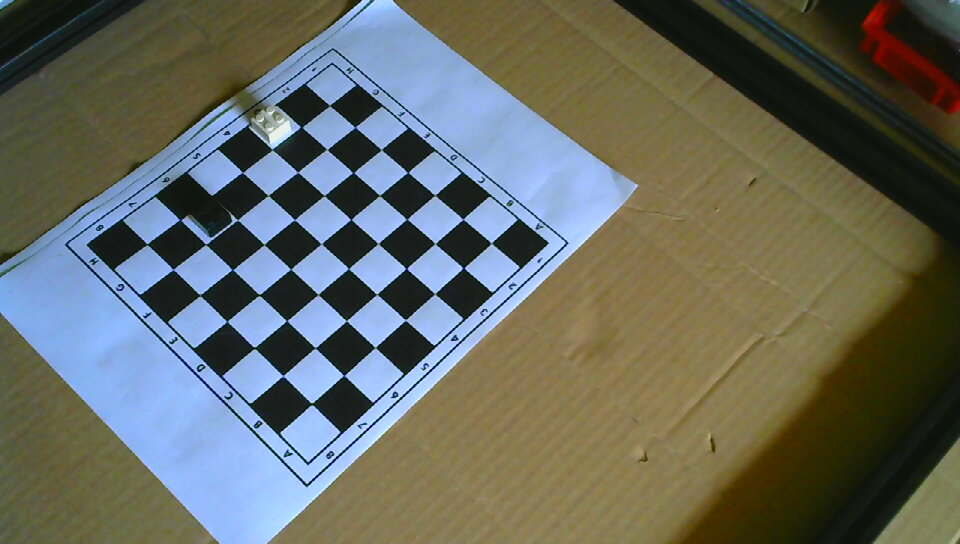bp: (187, 195, 233, 237)
wp: (251, 103, 293, 145)
